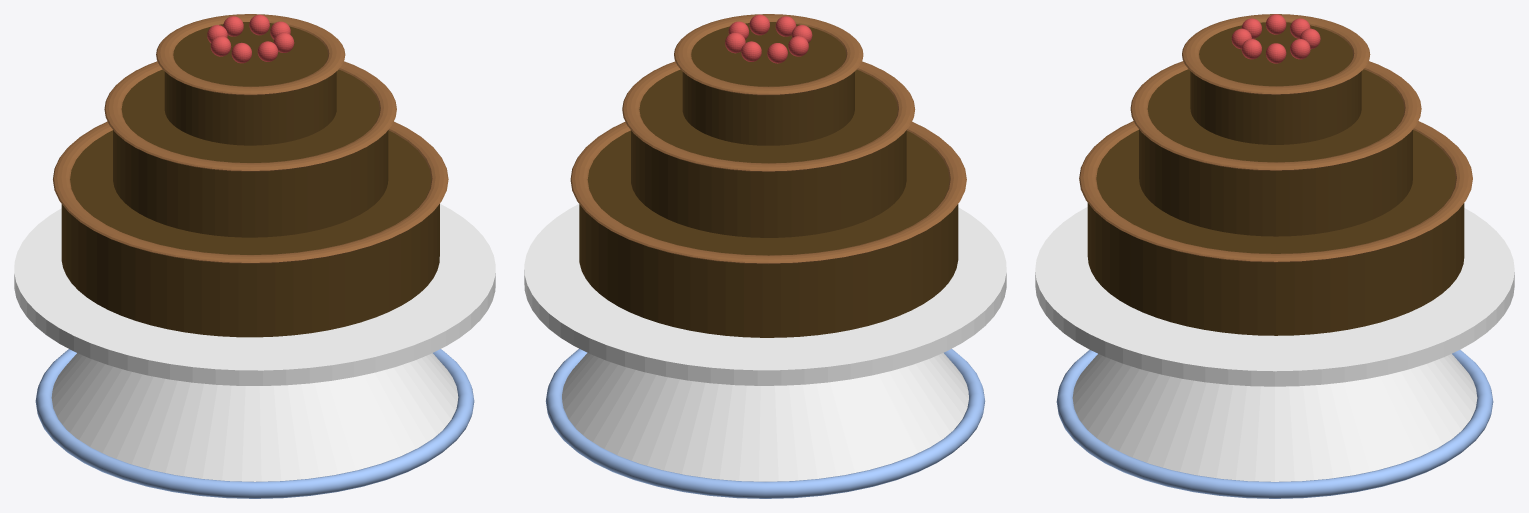
The model's file is welcome.glb.
The picture shows the model from 3 angles, left to right: view 1: azimuth 30°, elevation 25°; view 2: azimuth 150°, elevation 25°; view 3: azimuth 270°, elevation 25°; orthographic projection.
Parts seen in each view (by area): view 1: Cake_Tier_1, Turntable_Base, Turntable_Top, Cake_Tier_2, Cake_Tier_3, Rubber_Grip, Drip_1.0, Drip_1.9, Drip_2.6; view 2: Cake_Tier_1, Turntable_Base, Turntable_Top, Cake_Tier_2, Cake_Tier_3, Rubber_Grip, Drip_1.0, Drip_1.9, Drip_2.6; view 3: Cake_Tier_1, Turntable_Base, Turntable_Top, Cake_Tier_2, Cake_Tier_3, Rubber_Grip, Drip_1.0, Drip_1.9, Drip_2.6.
Boxes of the visible parts, bbox=[...] form: Cake_Tier_1: bbox=[61, 130, 439, 337]; Turntable_Base: bbox=[51, 353, 458, 481]; Turntable_Top: bbox=[14, 204, 495, 385]; Cake_Tier_2: bbox=[113, 69, 388, 237]; Cake_Tier_3: bbox=[164, 22, 336, 145]; Rubber_Grip: bbox=[35, 349, 474, 498]; Drip_1.0: bbox=[53, 121, 448, 263]; Drip_1.9: bbox=[104, 61, 396, 171]; Drip_2.6: bbox=[156, 14, 345, 95]; Cake_Tier_1: bbox=[579, 130, 958, 337]; Turntable_Base: bbox=[562, 353, 968, 481]; Turntable_Top: bbox=[524, 204, 1006, 385]; Cake_Tier_2: bbox=[631, 69, 906, 237]; Cake_Tier_3: bbox=[682, 22, 854, 145]; Rubber_Grip: bbox=[545, 348, 985, 498]; Drip_1.0: bbox=[570, 121, 966, 264]; Drip_1.9: bbox=[622, 61, 915, 171]; Drip_2.6: bbox=[674, 14, 863, 95]; Cake_Tier_1: bbox=[1087, 130, 1464, 335]; Turntable_Base: bbox=[1072, 353, 1477, 481]; Turntable_Top: bbox=[1035, 207, 1514, 386]; Cake_Tier_2: bbox=[1139, 69, 1412, 236]; Cake_Tier_3: bbox=[1190, 22, 1361, 144]; Rubber_Grip: bbox=[1056, 350, 1493, 498]; Drip_1.0: bbox=[1079, 121, 1472, 262]; Drip_1.9: bbox=[1130, 61, 1421, 170]; Drip_2.6: bbox=[1182, 14, 1370, 94].
Bounding box in the file's own units: 5.6 × 4.87 × 5.6.
